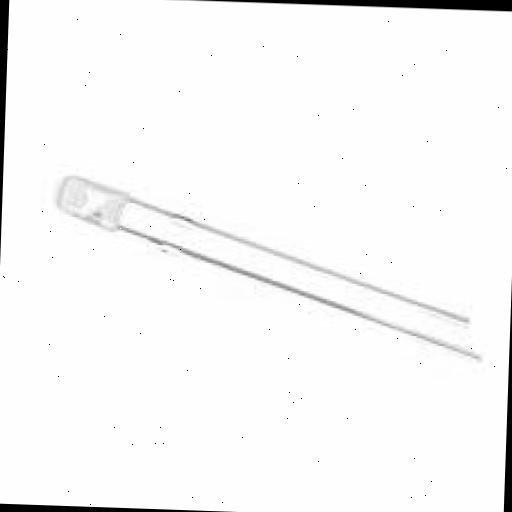LED: (48, 170, 488, 366)
